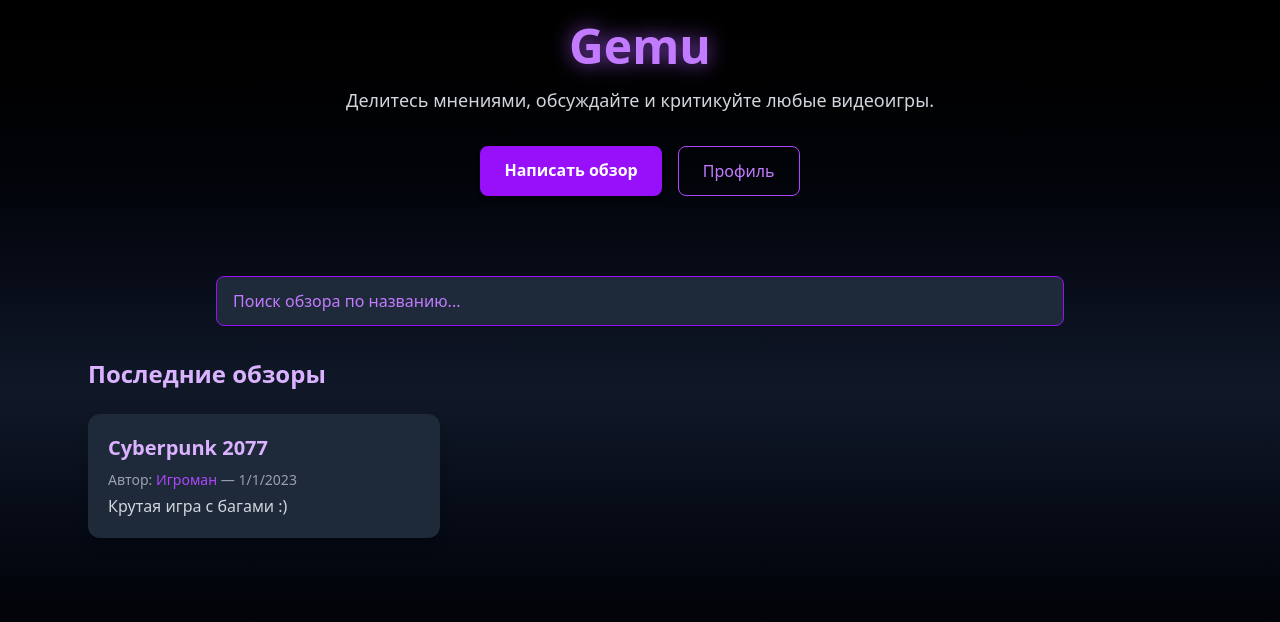
Home Page › фильтрует обзоры по названию
Expected: the heading "Cyberpunk 2077" is shown, [108,434,268,461]
Type "Cyberpunk" into the field with placeholder "Поиск обзора по названию..." at (640, 301), box [216,276,1064,326]
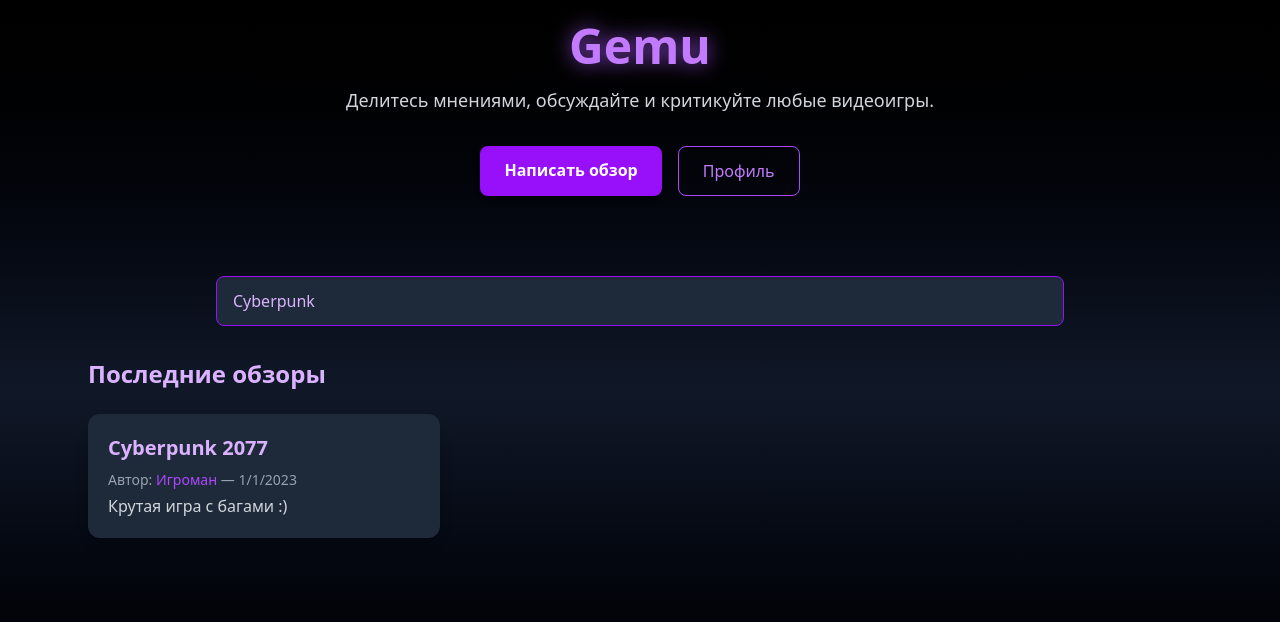
Expected: the heading "Cyberpunk 2077" is shown, [108,434,268,461]
Replace the text in the field with placeholder "Поиск обзора по названию..." with "Witcher" at (640, 301), box [216,276,1064,326]
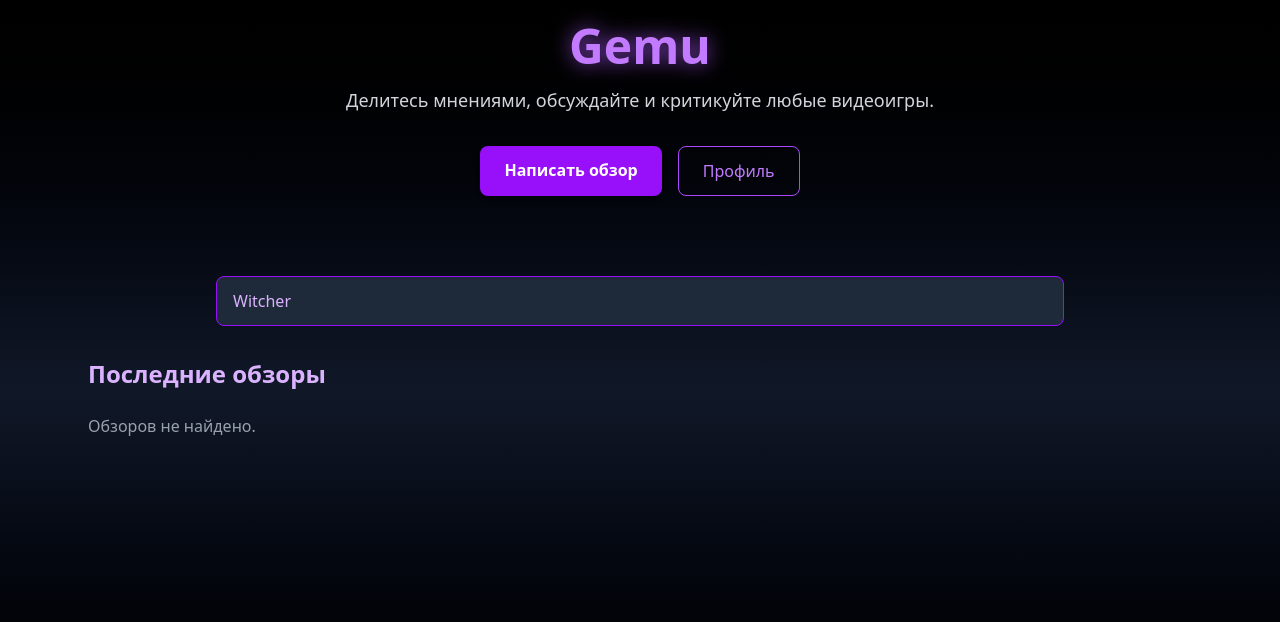
Result: the link "Cyberpunk 2077" is gone
Result: the text "Обзоров не найдено." is shown at [88,415,256,437]
